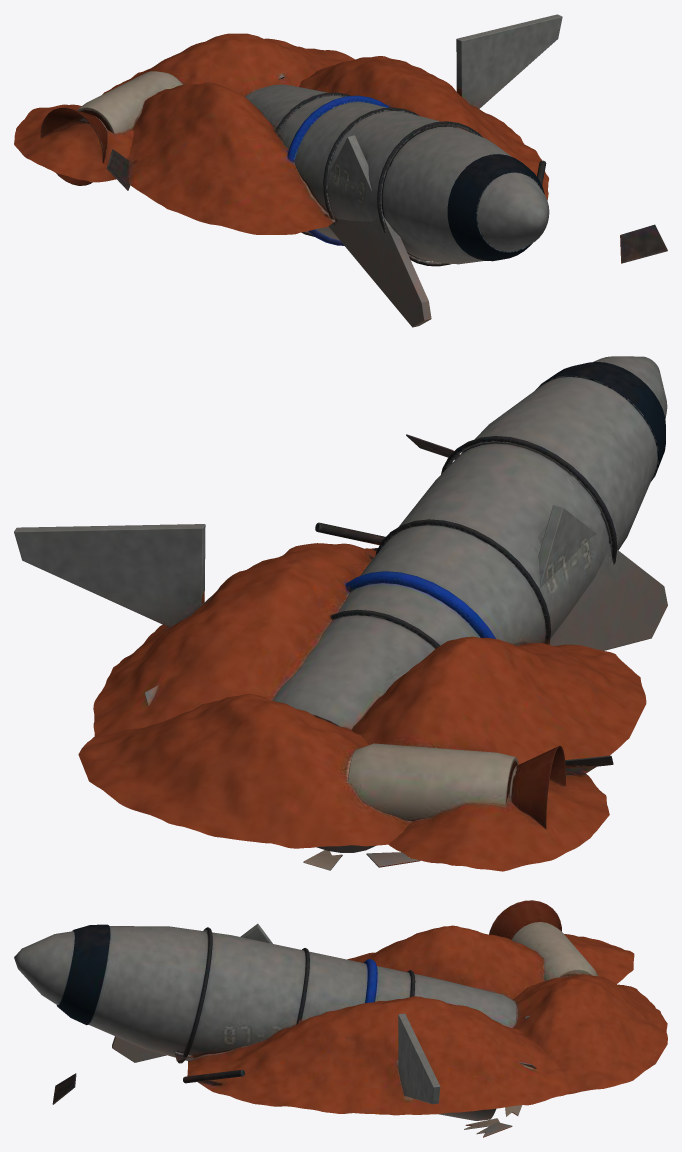
Rendered from ship_wreck.glb.
3 renders of one model, top to bottom at view 1: azimuth 30°, elevation 25°; view 2: azimuth 150°, elevation 25°; view 3: azimuth 270°, elevation 25°, orthographic. The views are drawn at different scales.
Parts seen in each view (by area): view 1: ship_wreck; view 2: ship_wreck; view 3: ship_wreck.
Part boxes in pixels (x1=…): ship_wreck: x1=14, y1=14, x2=667, y2=327; ship_wreck: x1=14, y1=356, x2=667, y2=871; ship_wreck: x1=14, y1=900, x2=667, y2=1137.
Size of the model in its own units: 12.56 by 5.31 by 15.67.
2 materials, 2 textured.
